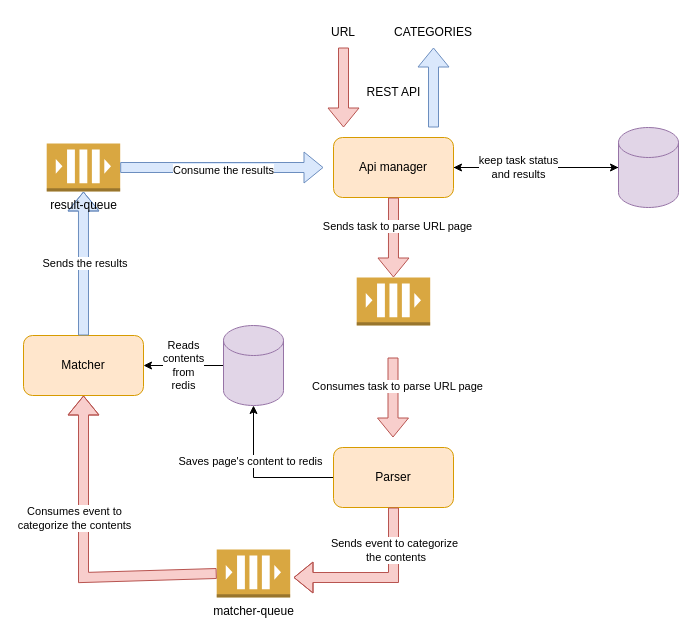
Some shapes in this 696 by 635 pixel diagram are drawn without their labels. The box of each missing label's shape, as (x1, y1, x2, y2) in pixels:
content-queue: (356, 276, 430, 326)
postgresql: (618, 126, 678, 208)
redis: (222, 324, 284, 406)
